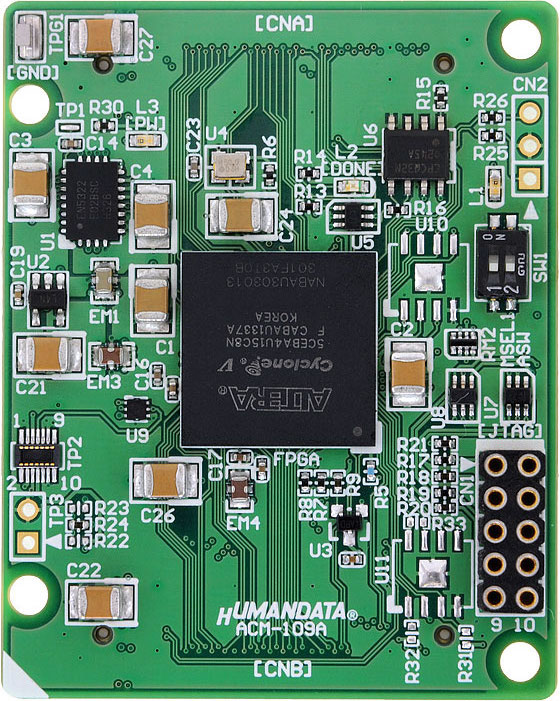capacitor C1: (131, 267, 174, 336)
capacitor C14: (59, 137, 83, 151)
capacitor C16: (151, 363, 164, 389)
capacitor C17: (229, 451, 252, 464)
capacitor C19: (10, 284, 24, 307)
capacitor C2: (385, 337, 434, 412)
capacitor C21: (14, 334, 84, 376)
capacitor C22: (66, 580, 137, 624)
capacitor C23: (187, 156, 201, 180)
capacitor C24: (206, 196, 276, 237)
capacitor C26: (133, 459, 200, 503)
capacitor C27: (66, 19, 133, 60)
capacitor C3: (9, 148, 53, 220)
capacitor C4: (132, 183, 172, 252)
capacitor unknown: (338, 550, 365, 568), (257, 457, 269, 482), (168, 376, 178, 402)
clock U4: (206, 148, 255, 187)
component text" "1 2: (486, 284, 520, 295)
component text" "2 G: (516, 252, 526, 277)
component text" "ALTERA Cyclone V 5CEBA4U15C8N F CABAU1337A KOREA NABAU303013 30: (215, 259, 335, 417)
component text" "EN5322 E02BSC: (72, 176, 114, 226)
component text" "EPCQ32M Q245A: (391, 145, 444, 176)
component text" "O N: (481, 233, 507, 242)
connector CN1: (474, 441, 545, 617)
connector CN2: (514, 96, 547, 196)
connector TP3: (11, 494, 43, 559)
emi filter" EM1: (91, 259, 117, 302)
emi filter" EM3: (89, 341, 132, 371)
emi filter" EM4: (226, 469, 252, 513)
ic FPGA: (182, 251, 377, 448)
ic TP2: (14, 427, 63, 485)
ic U1: (59, 155, 127, 248)
ic U2: (28, 273, 67, 328)
ic U3: (329, 503, 370, 547)
ic U5: (328, 200, 378, 233)
ic U6: (385, 113, 454, 197)
ic U7: (502, 368, 534, 423)
ic U8: (447, 370, 480, 423)
ic U9: (123, 394, 151, 424)
led L1: (487, 168, 502, 204)
led L2: (335, 179, 373, 196)
led L3: (126, 132, 165, 150)
pads R22: (66, 534, 95, 549)
pads R23: (67, 501, 91, 516)
pads R31: (458, 625, 475, 653)
pads R32: (404, 619, 420, 647)
pads R33: (404, 516, 430, 530)
pads U10: (384, 233, 470, 321)
pads U11: (386, 530, 474, 618)
resistor R13: (297, 202, 321, 215)
resistor R14: (297, 168, 321, 181)
resistor R15: (435, 86, 447, 113)
resistor R16: (386, 204, 411, 217)
resistor R17: (432, 454, 458, 466)
resistor R18: (432, 471, 457, 483)
resistor R19: (432, 486, 457, 499)
resistor R20: (432, 503, 457, 515)
resistor R21: (433, 437, 457, 450)
resistor R24: (66, 520, 91, 533)
resistor R25: (480, 130, 504, 143)
resistor R26: (479, 111, 505, 124)
resistor R30: (92, 119, 118, 132)
resistor R5: (362, 459, 379, 483)
resistor R6: (263, 164, 276, 189)
resistor R7: (314, 471, 328, 495)
resistor R8: (299, 470, 311, 495)
resistor R9: (331, 471, 345, 496)
resistor network" RM2: (445, 331, 479, 358)
switch SW1: (474, 210, 531, 311)
test point" TP1: (56, 123, 83, 134)
test point" TPG1: (13, 11, 47, 63)
text "ACM-109A: (233, 621, 331, 638)
text "[CNA]: (256, 10, 315, 37)
text "[CNB]: (254, 658, 313, 679)
text "[GND]: (6, 63, 62, 84)
text "[JTAG]: (478, 424, 543, 438)
text 1: (12, 411, 22, 429)
text 10: (513, 615, 537, 635), (60, 476, 82, 493)
text 2: (4, 475, 19, 492)
text 9: (53, 410, 66, 430), (490, 616, 504, 633)
text ASW: (516, 330, 532, 369)
text C1: (155, 338, 176, 357)
text C14: (86, 135, 119, 152)
text C16: (134, 356, 150, 392)
text C17: (205, 448, 226, 483)
text C19: (8, 244, 26, 279)
text C2: (390, 321, 414, 339)
text C21: (14, 377, 47, 398)
text C22: (66, 561, 102, 578)
text C23: (183, 115, 202, 155)
text C26: (140, 505, 176, 527)
text C27: (138, 27, 156, 64)
text C3: (8, 129, 33, 149)
text C4: (128, 162, 156, 180)
text CN1: (460, 475, 475, 507)
text CN2: (511, 76, 550, 93)
text EM1: (87, 307, 121, 326)
text EM3: (85, 374, 122, 391)
text EM4: (223, 514, 264, 533)
text FPGA: (271, 450, 323, 468)
text HUMANDATA: (217, 599, 359, 627)
text L1: (466, 186, 485, 209)
text L2: (332, 142, 360, 161)
text L3: (133, 98, 160, 117)
text MSEL1: (498, 313, 516, 368)
text R13: (292, 183, 330, 201)
text R14: (292, 146, 326, 167)
text R15: (414, 74, 432, 112)
text R16: (413, 199, 448, 216)
text R17: (395, 452, 432, 468)
text R18: (395, 468, 432, 485)
text R19: (395, 485, 432, 501)
text R20: (396, 501, 432, 515)
text R21: (396, 437, 431, 453)
text R22: (94, 532, 130, 551)
text R23: (95, 499, 130, 516)
text R24: (92, 516, 130, 532)
text R25: (472, 143, 509, 162)
text R26: (472, 91, 509, 110)
text R30: (89, 98, 124, 116)
text R31: (456, 652, 474, 686)
text R32: (402, 648, 421, 688)
text R33: (430, 516, 467, 533)
text R5: (374, 484, 390, 510)
text R6: (260, 133, 279, 161)
text R7: (313, 495, 328, 522)
text R8: (296, 496, 313, 522)
text R9: (346, 473, 361, 498)
text RM2: (479, 325, 497, 364)
text SW1: (532, 250, 548, 285)
text TP1: (53, 100, 85, 119)
text TP2: (66, 433, 84, 473)
text TP3: (47, 493, 66, 528)
text TPG1: (46, 13, 64, 58)
text U1: (39, 231, 59, 252)
text U10: (413, 216, 450, 233)
text U11: (373, 554, 392, 586)
text U2: (25, 253, 53, 271)
text U3: (308, 541, 334, 559)
text U4: (205, 125, 231, 142)
text U5: (350, 234, 376, 249)
text U6: (361, 122, 379, 148)
text U7: (481, 395, 500, 421)
text U8: (430, 406, 446, 430)
text U9: (126, 426, 151, 446)
text [: (321, 162, 379, 177), (126, 117, 164, 132)
text triangle: (522, 200, 541, 223), (45, 532, 64, 552), (460, 455, 475, 474)
